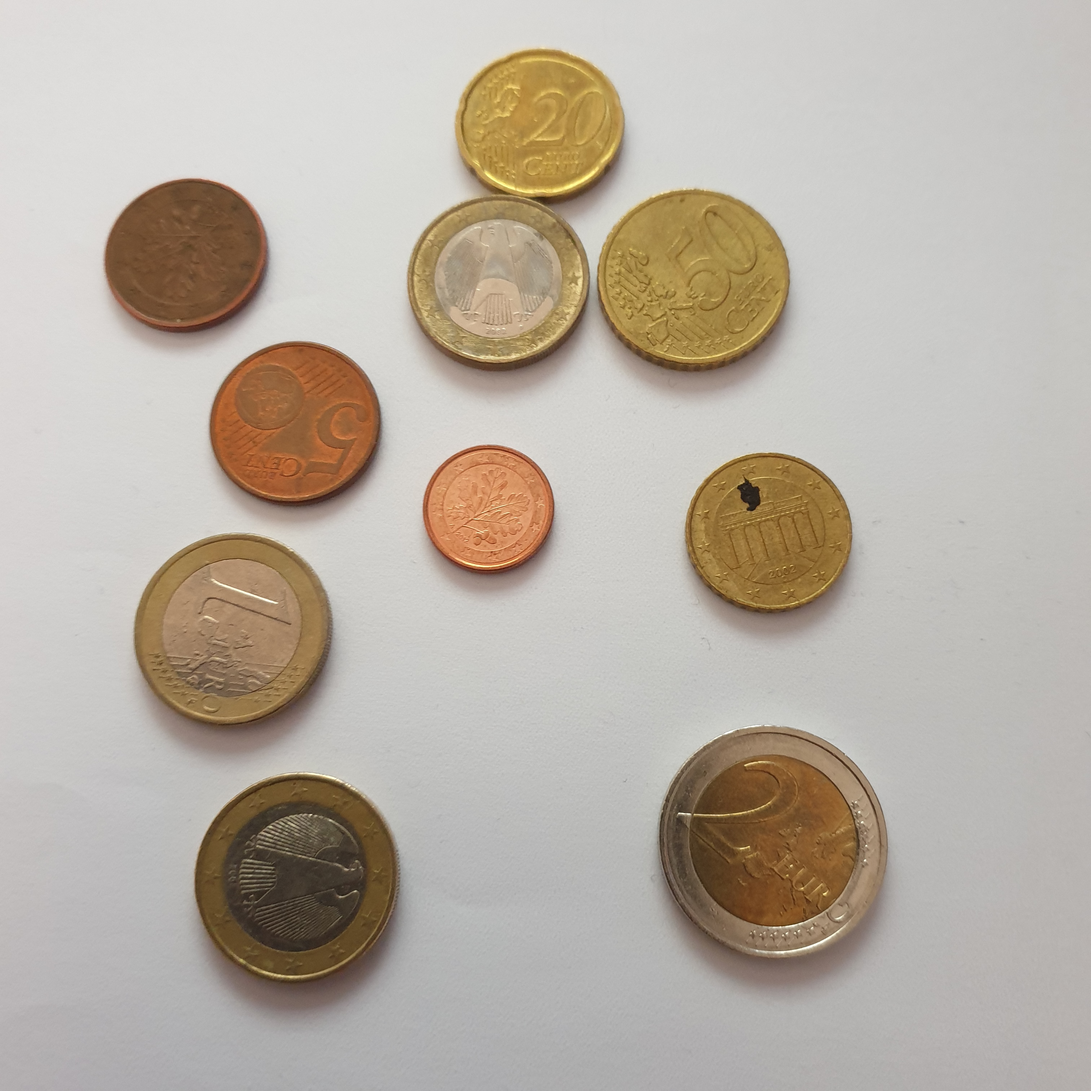1 cent: (411, 434, 566, 589)
1 euro: (128, 530, 335, 727), (393, 189, 600, 386), (192, 775, 399, 972)
10 cent: (449, 23, 638, 215), (676, 440, 864, 631)
2 euro: (641, 715, 901, 965)
5 cent: (199, 333, 385, 507), (96, 170, 281, 344)
50 cent: (595, 186, 799, 371)
